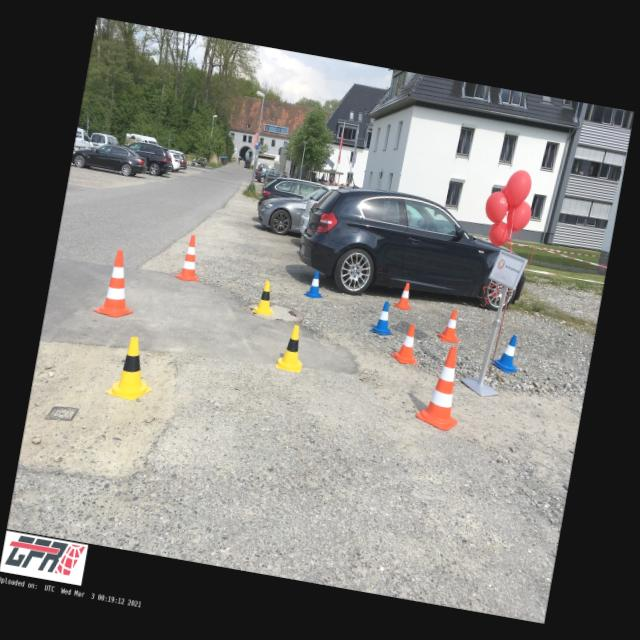blue_cone: (491, 332, 523, 374), (369, 300, 396, 336), (303, 268, 327, 298)
large_orange_cone: (414, 342, 470, 432), (94, 247, 144, 320), (174, 232, 206, 282)
orange_cone: (390, 322, 423, 366), (436, 307, 464, 343), (392, 280, 415, 310)
yellow_cone: (104, 334, 160, 403), (276, 322, 308, 372), (251, 279, 278, 316)
